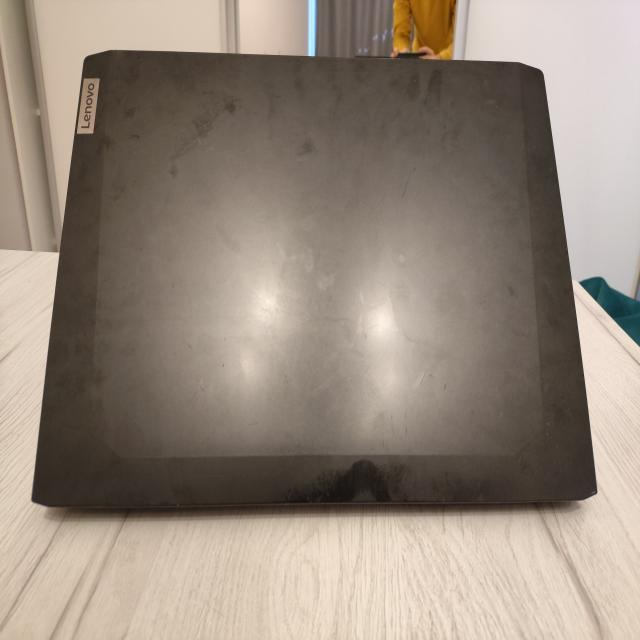chip: (389, 403, 411, 442), (176, 337, 199, 362), (351, 438, 386, 454), (188, 378, 209, 401), (219, 331, 230, 371), (473, 417, 489, 444), (245, 414, 264, 432), (493, 371, 506, 395), (543, 411, 554, 439), (482, 97, 501, 113), (494, 406, 506, 429), (563, 403, 574, 420), (514, 451, 524, 469), (203, 145, 215, 155), (137, 245, 144, 253), (548, 165, 554, 174), (227, 146, 233, 155)
other: (158, 73, 247, 181), (300, 454, 399, 508), (295, 56, 392, 110), (111, 463, 214, 511), (278, 226, 343, 296), (399, 62, 454, 126), (109, 99, 145, 150), (388, 148, 424, 195), (258, 69, 284, 125), (153, 267, 191, 302), (354, 282, 372, 348), (401, 364, 445, 390), (295, 129, 325, 167), (91, 359, 116, 402), (503, 273, 524, 306), (395, 245, 412, 273), (137, 323, 154, 351), (281, 364, 293, 396)
